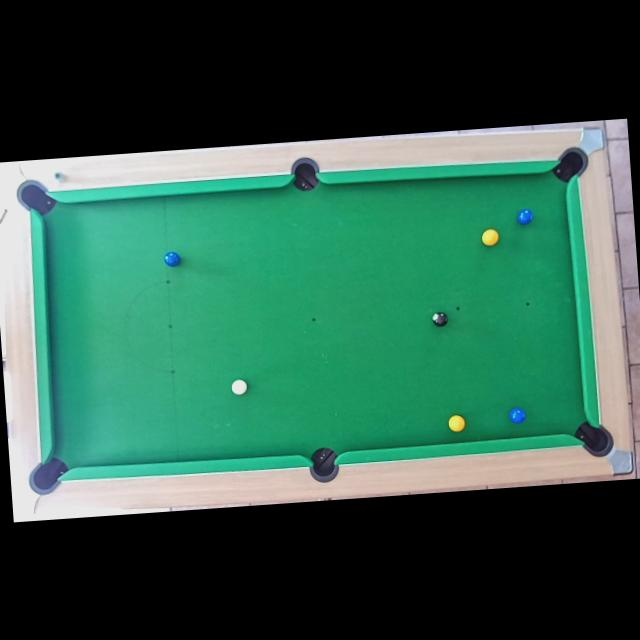Ball: (447, 413, 466, 432), (481, 228, 500, 246), (164, 250, 182, 268), (231, 378, 248, 396), (515, 207, 533, 224), (508, 407, 526, 424), (432, 310, 448, 326)
